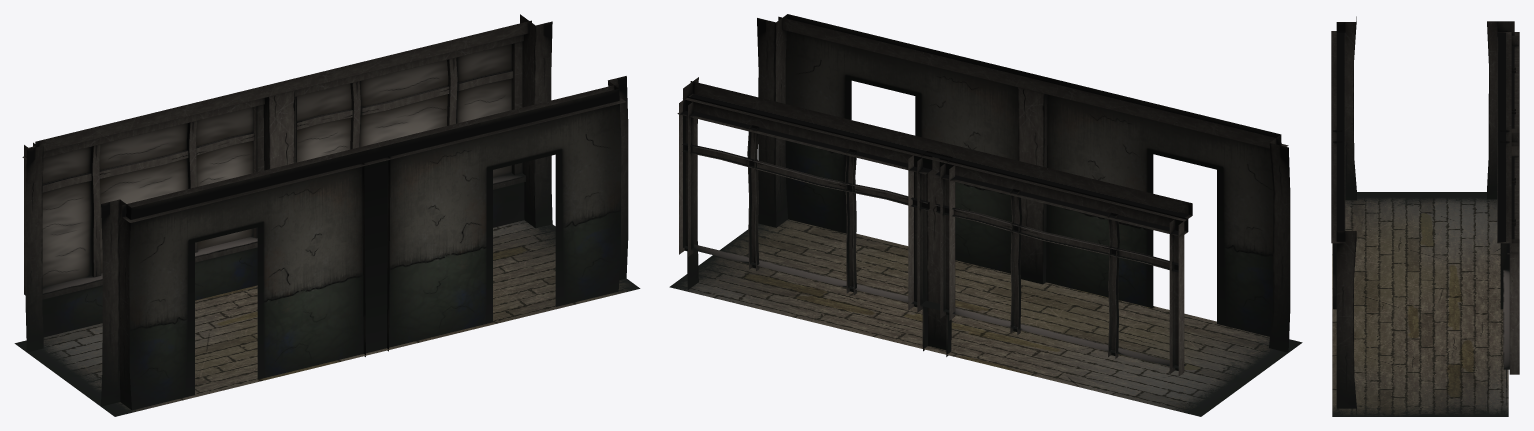
Rendered from Hallway.fbx.
3 views of the same model, side by side, from view 1: azimuth 30°, elevation 25°; view 2: azimuth 150°, elevation 25°; view 3: azimuth 270°, elevation 25° (orthographic). The views are drawn at different scales.
Parts seen in each view (by area): view 1: Hallway3, Hallway2, Hallway1; view 2: Hallway3, Hallway2, Hallway1; view 3: Hallway1, Hallway2, Hallway3.
Part boxes in pixels (x1=…): Hallway3: x1=101, y1=76, x2=628, y2=410; Hallway2: x1=22, y1=14, x2=552, y2=352; Hallway1: x1=14, y1=220, x2=640, y2=416; Hallway3: x1=757, y1=14, x2=1290, y2=352; Hallway2: x1=677, y1=77, x2=1192, y2=376; Hallway1: x1=669, y1=219, x2=1302, y2=416; Hallway1: x1=1332, y1=192, x2=1508, y2=416; Hallway2: x1=1487, y1=21, x2=1519, y2=410; Hallway3: x1=1331, y1=16, x2=1356, y2=414.
Size of the model in its own units: 570 by 212 by 202.
